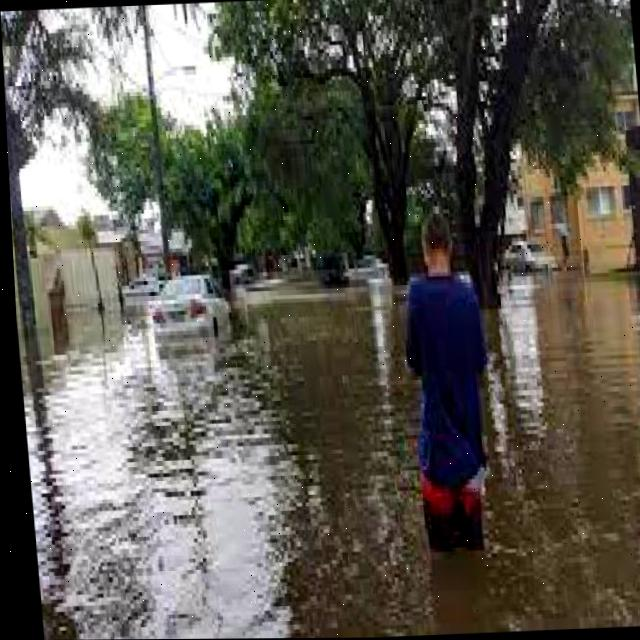civilian: (347, 179, 542, 596)
